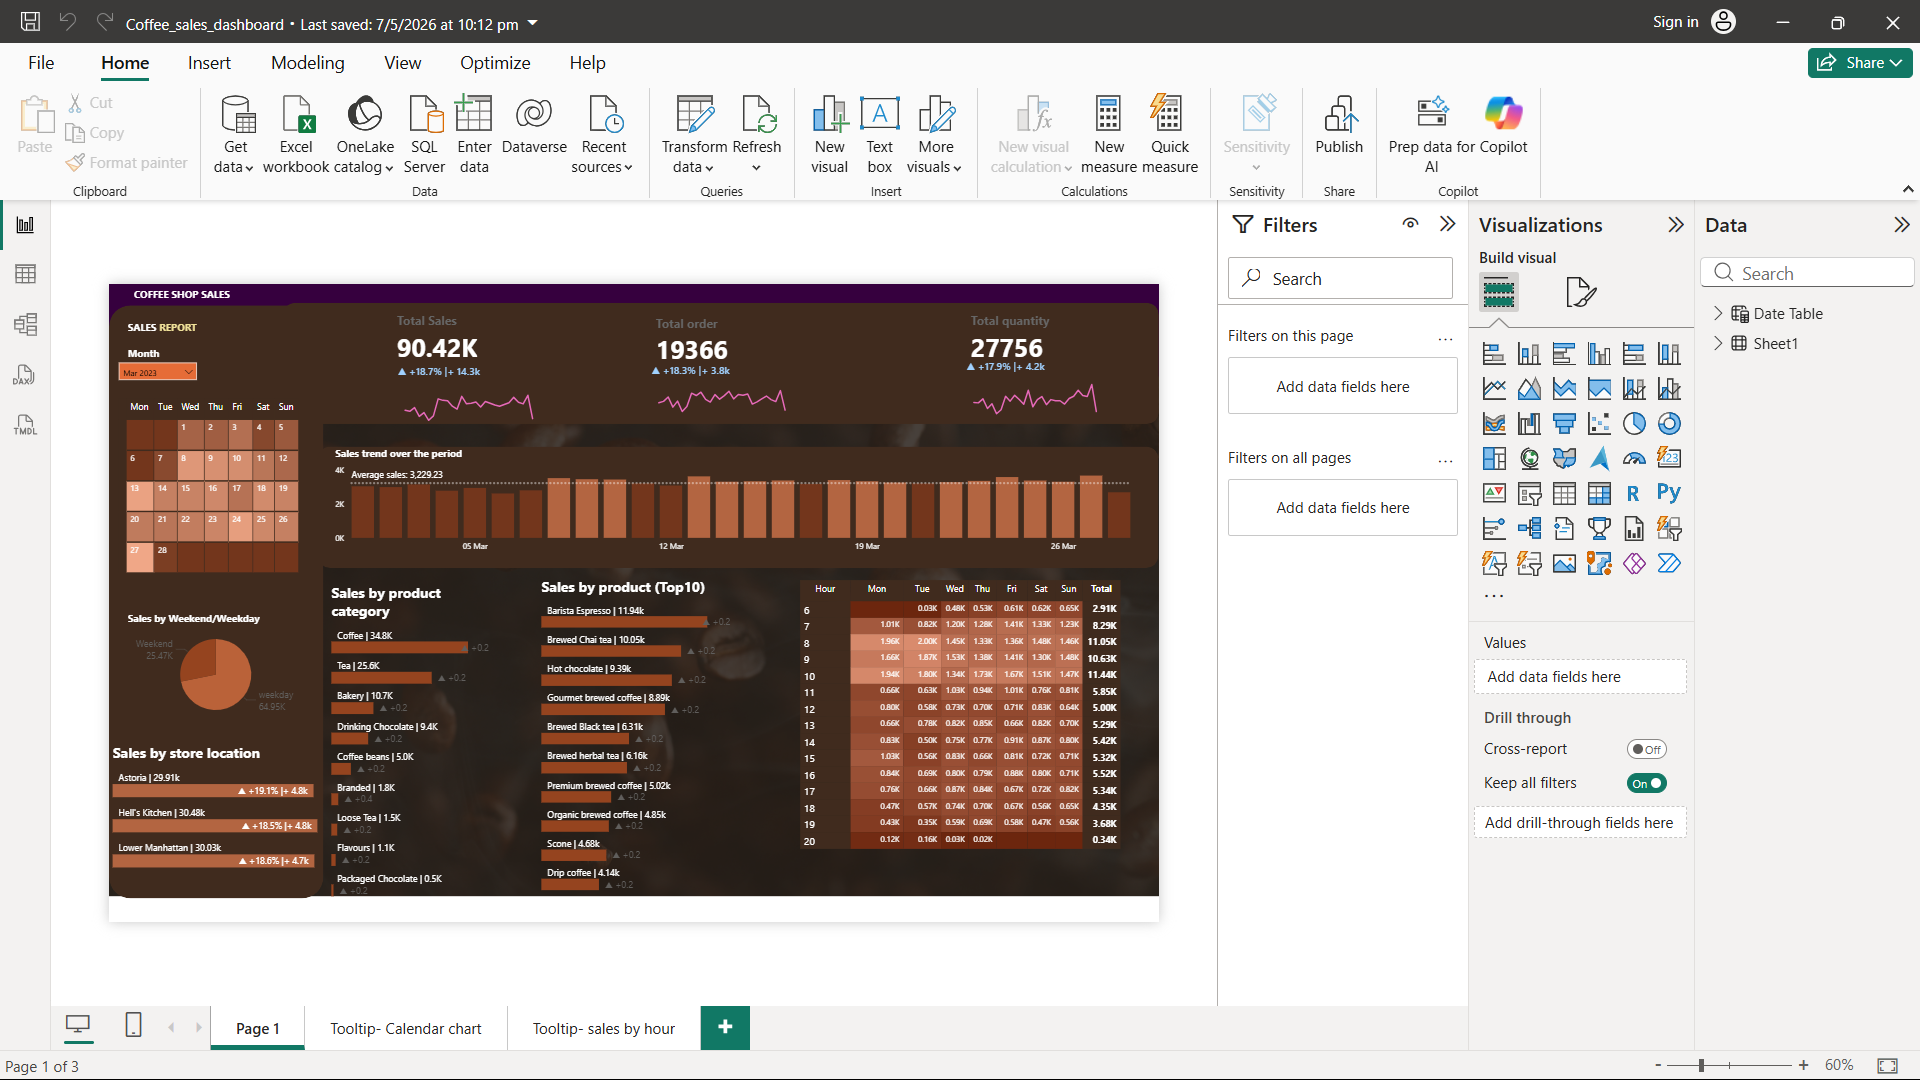

The page's visual inventory and layout, read from the dashboard file:
{"tool":"powerbi","page":{"name":"Page 1","canvas":[1400,850],"ordinal":0},"visuals":[{"type":"shape","box":[0,0,1400,123.3],"z":0},{"type":"shape","box":[0,29,286,791],"z":1000},{"type":"shape","box":[231.7,25,1168.3,161.7],"z":2000},{"type":"textbox","box":[29.2,0,151.3,27.3],"z":3000},{"type":"cardVisual","fields":{"Data":["Date Table.Total Sales"]},"box":[355,8.3,203.3,176.7],"z":4000},{"type":"slicer","fields":{"Values":["Date Table.Month Year"]},"box":[8,100,114,34],"z":5000},{"type":"lineChart","fields":{"Category":["Date Table.Date Hierarchy.Date"],"Y":["Date Table.Total Sales"]},"box":[380,106.7,200,85],"z":6000},{"type":"cardVisual","fields":{"Data":["Sheet1.Total order"]},"box":[700,11.7,245,178.3],"z":7000},{"type":"lineChart","fields":{"Category":["Date Table.Date Hierarchy.Date"],"Y":["Sheet1.Total order"]},"box":[718.3,105,198.3,85],"z":8000},{"type":"cardVisual","fields":{"Data":["Sheet1.total qty"]},"box":[1120,8.3,280,176.7],"z":9000},{"type":"lineChart","fields":{"Category":["Date Table.Date Hierarchy.Date"],"Y":["Sheet1.Total quantity"]},"box":[1138.3,100,193.3,83.3],"z":10000},{"type":"pivotTable","fields":{"Columns":["Date Table.Day name"],"Rows":["Date Table.Week number"],"Values":["Min(Date Table.Date number)"]},"box":[8,149,270,243],"z":11000},{"type":"pieChart","title":"Sales by Weekend/Weekday","fields":{"Category":["Date Table.Weekend or weekday"],"Y":["Date Table.Total Sales"]},"box":[20,436,245,151],"z":12000},{"type":"clusteredBarChart","title":"Sales by store location","fields":{"Category":["Sheet1.store_location"],"Y":["Date Table.Placeholder","Sum(Sheet1.Total sales)"]},"box":[0,612,312,174],"z":13000},{"type":"shape","box":[279,216,1121,162],"z":14000},{"type":"columnChart","title":"Sales trend over the period","fields":{"Category":["Sheet1.transaction_date"],"Y":["Date Table.Total Sales"]},"box":[296.7,216.7,1073.3,150],"z":15000},{"type":"clusteredBarChart","title":"Sales by product category","fields":{"Y":["Date Table.Placeholder","Sum(Sheet1.Total sales)"],"Category":["Sheet1.product_category"]},"box":[292,398,220,424],"z":16000},{"type":"clusteredBarChart","title":"Sales by product (Top10)","fields":{"Y":["Date Table.Placeholder","Sum(Sheet1.Total sales)"],"Category":["Sheet1.product_type"]},"box":[572,390,262,424],"z":17000},{"type":"pivotTable","fields":{"Values":["Date Table.Total Sales"],"Columns":["Date Table.Day name"],"Rows":["Sheet1.Hour"]},"box":[916,390,476,394],"z":18000},{"type":"textbox","box":[20,78,65,30],"z":18001},{"type":"textbox","box":[20,43,119,30],"z":18002}]}

Visuals, with their boxes on the page's 1400x850 design canvas (x1, y1, x2, y2). These are canvas units, not pixel positions in the 1920x1080 screenshot, which may show the page scaled, cropped or inside an application window:
shape: [0, 0, 1400, 123]
shape: [0, 29, 286, 820]
shape: [232, 25, 1400, 187]
textbox: [29, 0, 180, 27]
cardVisual - Date Table.Total Sales: [355, 8, 558, 185]
slicer - Date Table.Month Year: [8, 100, 122, 134]
lineChart - Date Table.Date Hierarchy.Date x Date Table.Total Sales: [380, 107, 580, 192]
cardVisual - Sheet1.Total order: [700, 12, 945, 190]
lineChart - Date Table.Date Hierarchy.Date x Sheet1.Total order: [718, 105, 917, 190]
cardVisual - Sheet1.total qty: [1120, 8, 1400, 185]
lineChart - Date Table.Date Hierarchy.Date x Sheet1.Total quantity: [1138, 100, 1332, 183]
pivotTable - Date Table.Day name x Date Table.Week number: [8, 149, 278, 392]
"Sales by Weekend/Weekday" pieChart: [20, 436, 265, 587]
"Sales by store location" clusteredBarChart: [0, 612, 312, 786]
shape: [279, 216, 1400, 378]
"Sales trend over the period" columnChart: [297, 217, 1370, 367]
"Sales by product category" clusteredBarChart: [292, 398, 512, 822]
"Sales by product (Top10)" clusteredBarChart: [572, 390, 834, 814]
pivotTable - Date Table.Total Sales x Date Table.Day name: [916, 390, 1392, 784]
textbox: [20, 78, 85, 108]
textbox: [20, 43, 139, 73]
